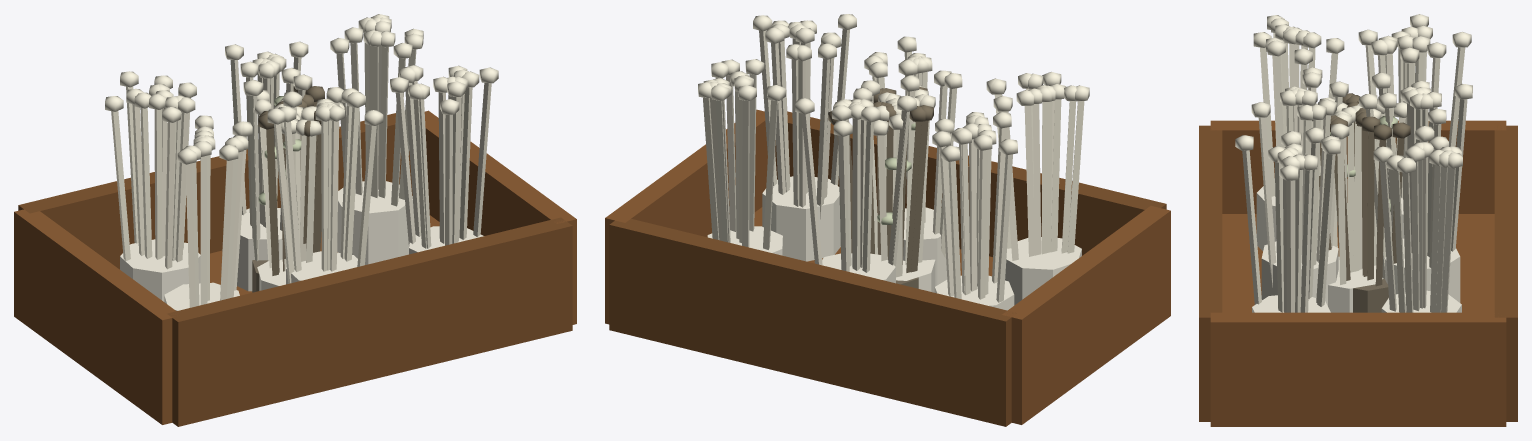
The model's file is Mush_Enoki.fbx.
3 views of the same model, side by side, from view 1: azimuth 30°, elevation 25°; view 2: azimuth 150°, elevation 25°; view 3: azimuth 270°, elevation 25° (orthographic).
Parts seen in each view (by area): view 1: Mush_Enoki__Stack, Mush_Enoki, Mush_Enoki__Rotten; view 2: Mush_Enoki__Stack, Mush_Enoki, Mush_Enoki__Rotten; view 3: Mush_Enoki__Stack, Mush_Enoki__Rotten, Mush_Enoki.
Part boxes in pixels (box(x1,y1,x2,y2)): Mush_Enoki__Stack: box(14, 14, 576, 426); Mush_Enoki: box(255, 90, 344, 290); Mush_Enoki__Rotten: box(252, 86, 324, 292); Mush_Enoki__Stack: box(605, 14, 1170, 426); Mush_Enoki: box(860, 86, 935, 292); Mush_Enoki__Rotten: box(828, 86, 933, 288); Mush_Enoki__Stack: box(1199, 14, 1517, 426); Mush_Enoki__Rotten: box(1319, 93, 1410, 312); Mush_Enoki: box(1312, 97, 1407, 312).
Size of the model in its own units: 0.1655 by 0.0911 by 0.1105.
